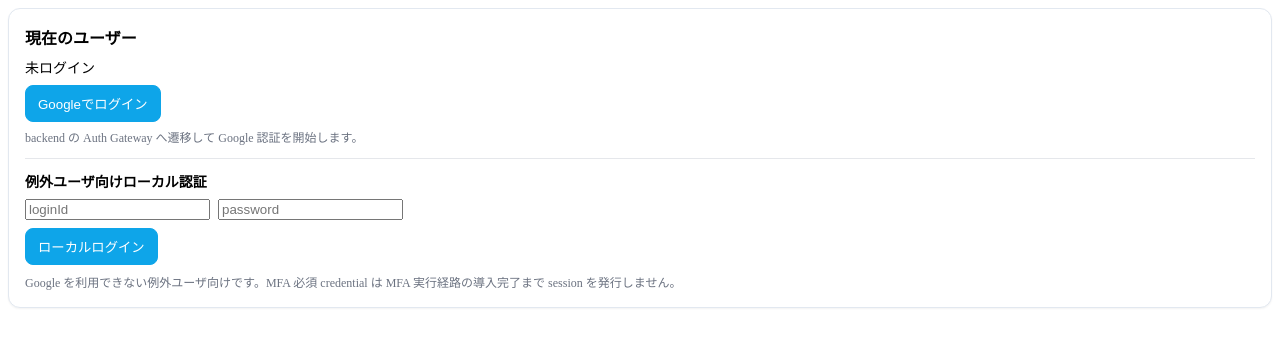
Test: CurrentUser › shows an MFA setup guidance message when local login requires setup
Type "local-user" into the field named "ローカル認証 loginId" at (118, 210), box left=25, top=199, right=210, bottom=220
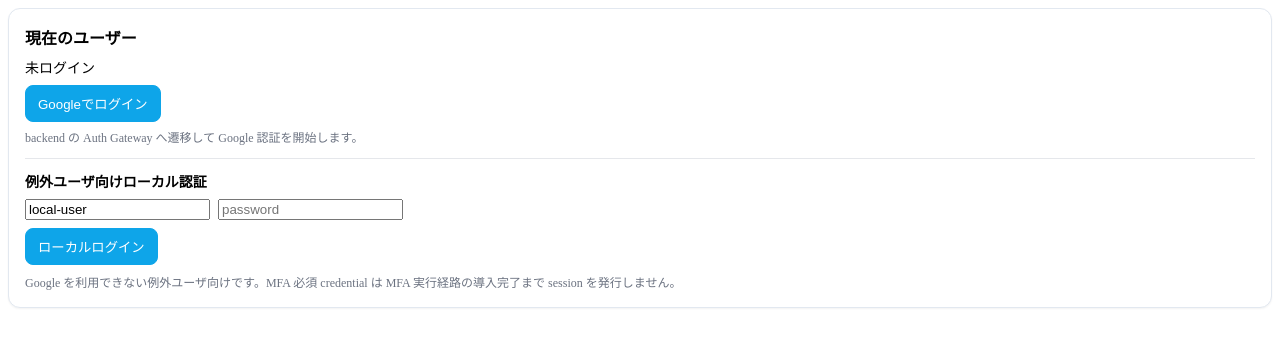
Type "old-password" into the password field named "ローカル認証 password" at (310, 210), box left=218, top=199, right=403, bottom=220
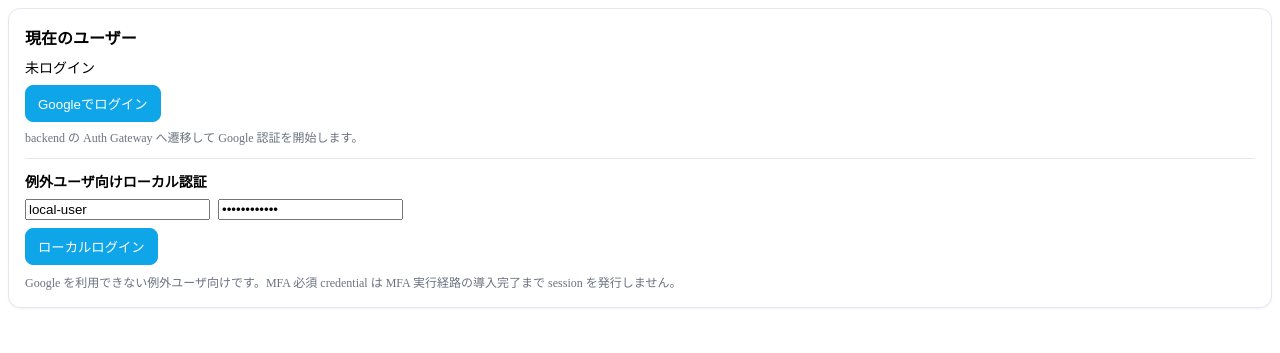
Click the button "ローカルログイン" at (91, 246), box left=25, top=228, right=158, bottom=265
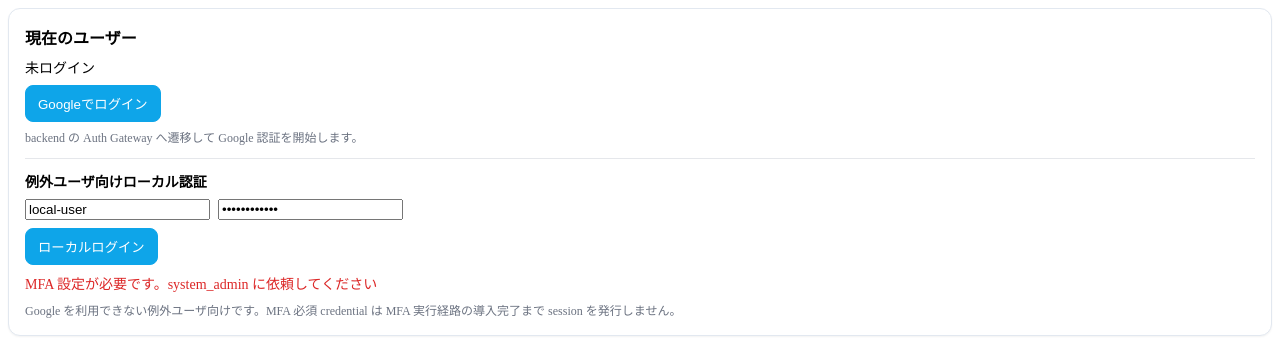
Now the text "MFA 設定が必要です。system_admin に依頼してください" is shown, box left=25, top=277, right=377, bottom=292
